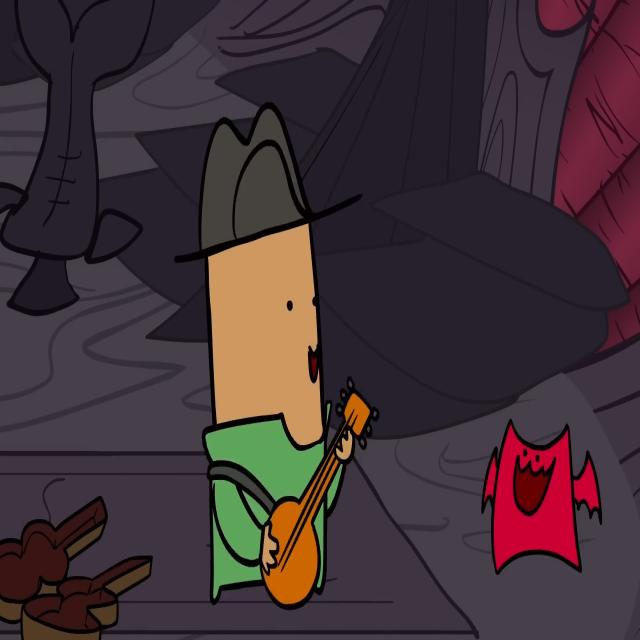Banjovi: (171, 97, 372, 613)
